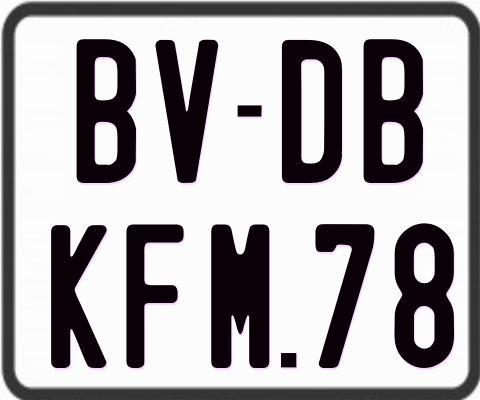7: (313, 224, 378, 370)
8: (391, 222, 457, 372)
B: (362, 37, 427, 187), (77, 38, 142, 185)
D: (282, 40, 347, 184)
F: (125, 223, 186, 373)
K: (49, 225, 107, 371)
M: (209, 221, 272, 369)
V: (154, 40, 221, 189)
